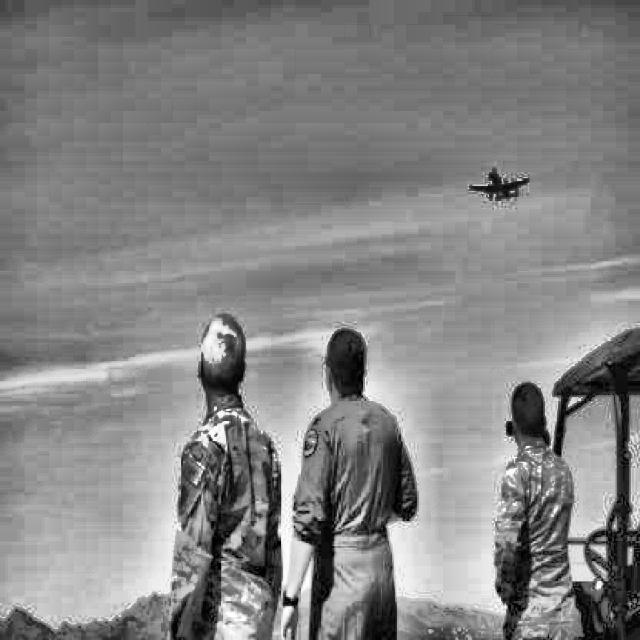A10: (469, 167, 531, 201)
